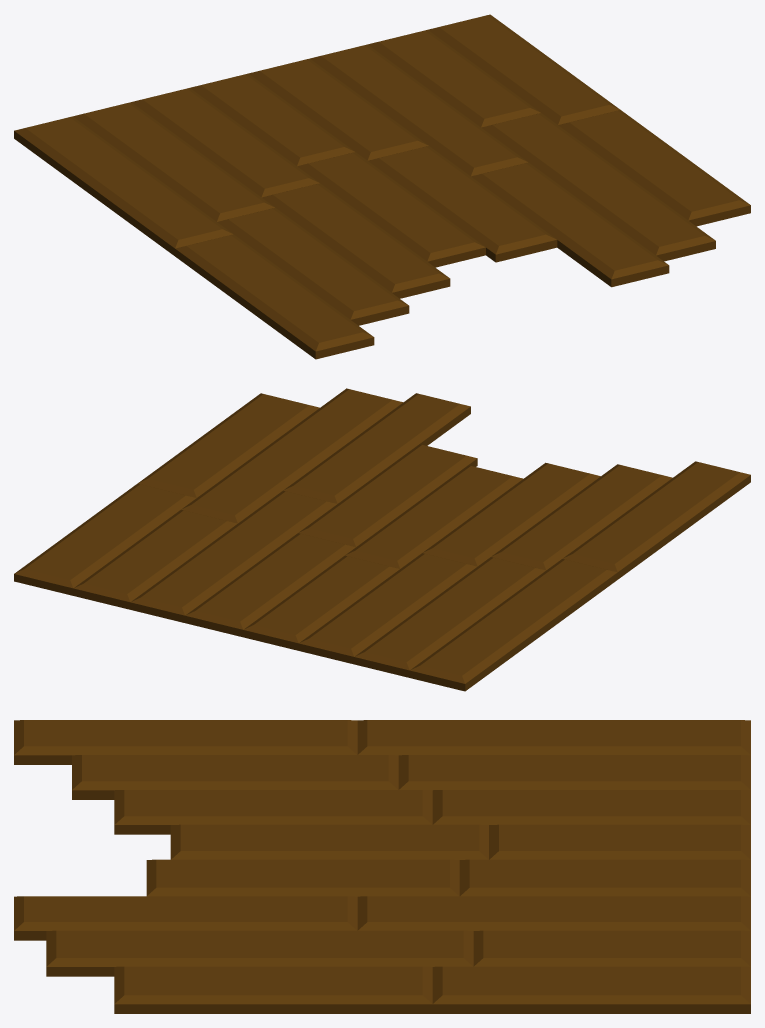
The model's file is WoodenFloorEnd1.fbx.
3 renders of one model, top to bottom at view 1: azimuth 30°, elevation 25°; view 2: azimuth 150°, elevation 25°; view 3: azimuth 270°, elevation 25°, orthographic. The views are drawn at different scales.
Parts seen in each view (by area): view 1: Cube.1677, Cube.1668, Cube.1683, Cube.1671, Cube.1680, Cube.1676, Cube.1679, Cube.1669, Cube.1682, Cube.1675, Cube.1681, Cube.1678 (+4 smaller); view 2: Cube.1668, Cube.1677, Cube.1671, Cube.1683, Cube.1669, Cube.1675, Cube.1680, Cube.1676, Cube.1670, Cube.1679, Cube.1682, Cube.1672 (+4 smaller); view 3: Cube.1677, Cube.1676, Cube.1675, Cube.1668, Cube.1671, Cube.1683, Cube.1680, Cube.1669, Cube.1679, Cube.1682, Cube.1681, Cube.1678 (+4 smaller).
Boxes of the visible parts, <box> form: Cube.1677: <box>481,113,715,261</box>; Cube.1668: <box>14,116,232,255</box>; Cube.1683: <box>175,234,374,359</box>; Cube.1671: <box>310,44,527,176</box>; Cube.1680: <box>471,162,669,287</box>; Cube.1676: <box>558,110,750,226</box>; Cube.1679: <box>368,146,557,262</box>; Cube.1669: <box>73,102,274,221</box>; Cube.1682: <box>217,207,409,325</box>; Cube.1675: <box>428,14,620,124</box>; Cube.1681: <box>262,183,450,298</box>; Cube.1678: <box>297,152,485,267</box>; Cube.1668: <box>409,559,617,691</box>; Cube.1677: <box>181,388,402,523</box>; Cube.1671: <box>130,490,336,622</box>; Cube.1683: <box>562,461,750,579</box>; Cube.1669: <box>354,557,545,677</box>; Cube.1675: <box>14,483,196,595</box>; Cube.1680: <box>283,393,470,503</box>; Cube.1676: <box>138,393,319,497</box>; Cube.1670: <box>298,553,477,664</box>; Cube.1679: <box>298,444,477,546</box>; Cube.1682: <box>491,464,672,570</box>; Cube.1672: <box>185,533,355,637</box>; Cube.1677: <box>46,930,473,976</box>; Cube.1676: <box>114,966,432,1013</box>; Cube.1675: <box>432,966,750,1013</box>; Cube.1668: <box>357,720,750,755</box>; Cube.1671: <box>357,896,750,930</box>; Cube.1683: <box>14,720,357,764</box>; Cube.1680: <box>14,896,357,940</box>; Cube.1669: <box>398,755,750,790</box>; Cube.1679: <box>146,859,459,896</box>; Cube.1682: <box>72,755,398,799</box>; Cube.1681: <box>114,790,432,834</box>; Cube.1678: <box>170,824,488,859</box>.
Size of the model in its own units: 844 by 20 by 926.
